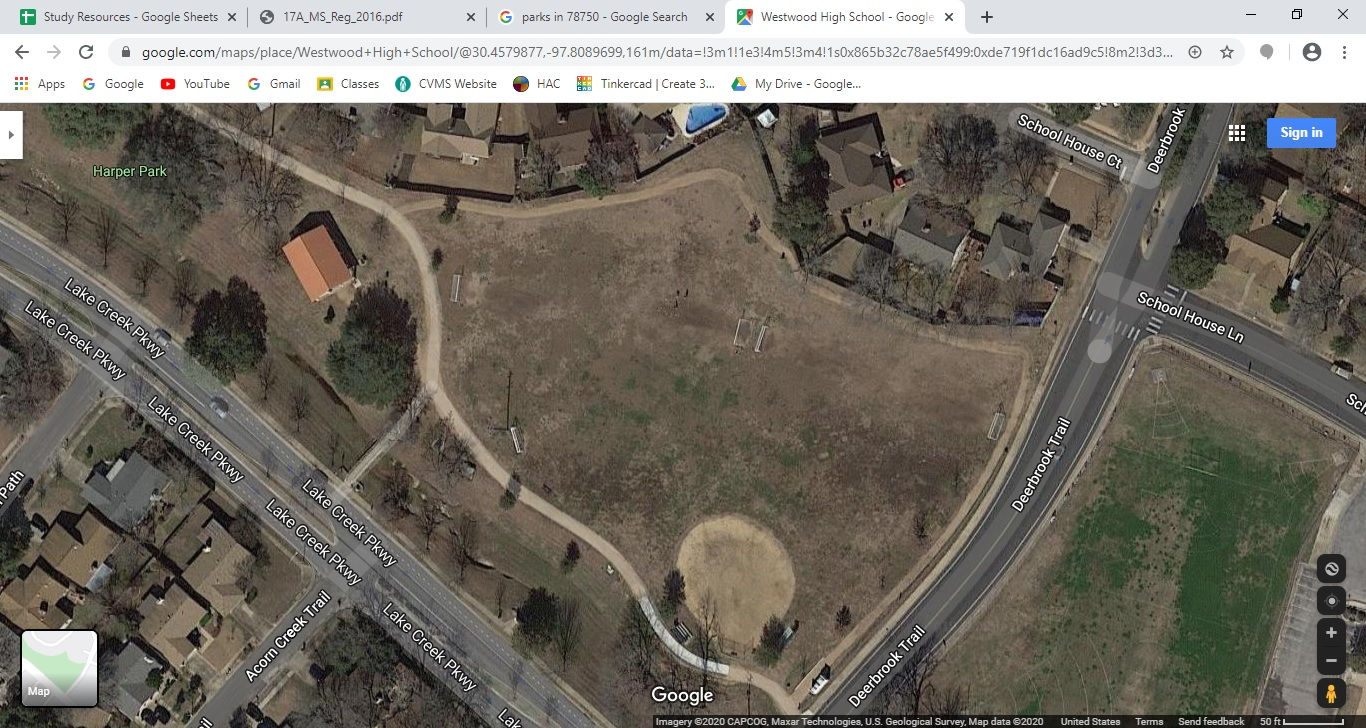soccer: (508, 292, 958, 561)
